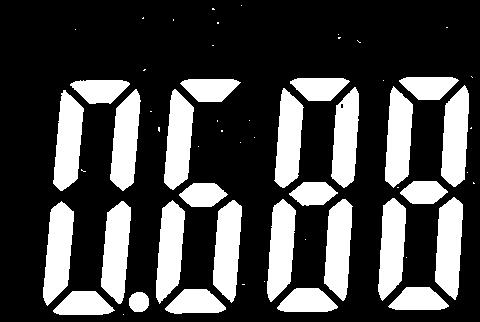0: (41, 79, 141, 317)
6: (155, 77, 247, 313)
8: (375, 74, 473, 314), (264, 79, 360, 312)
dot: (127, 290, 151, 313)
